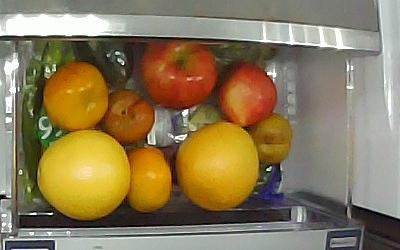apple: (140, 40, 217, 109), (217, 62, 277, 127)
grapefruit: (37, 129, 132, 221), (175, 121, 259, 212)
persimmon: (42, 62, 108, 130), (126, 146, 172, 214)
prune: (104, 90, 155, 146), (251, 113, 293, 163)
